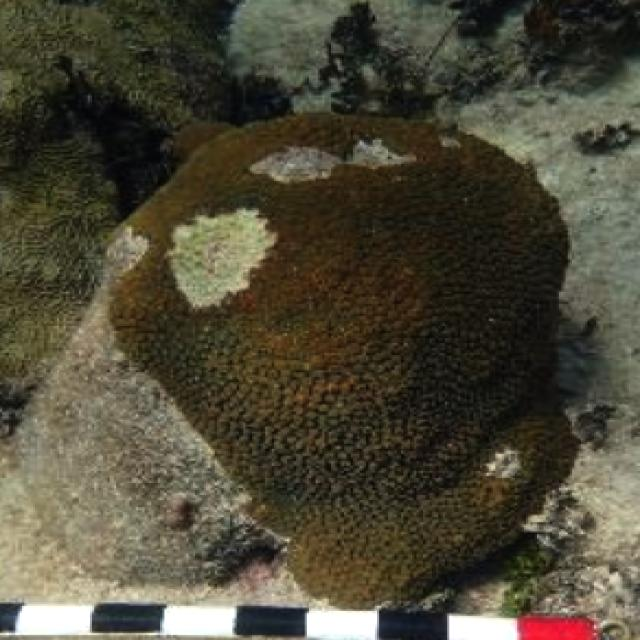Coral: (15, 113, 581, 609)
